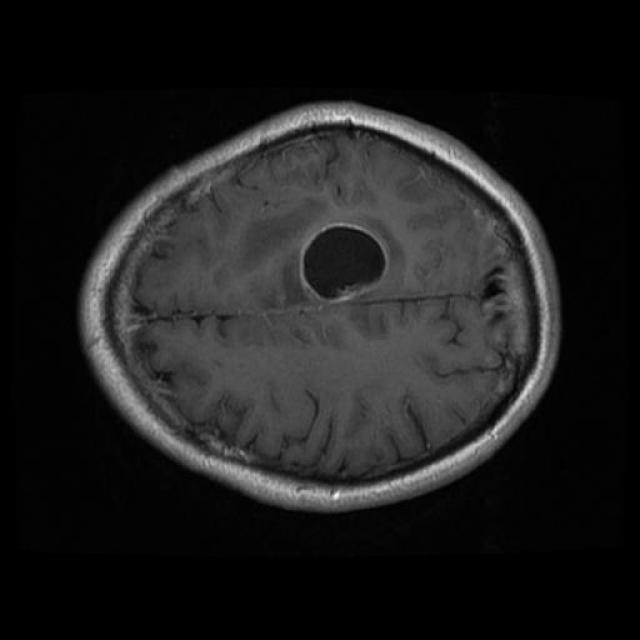Glioma: (301, 225, 386, 299)
